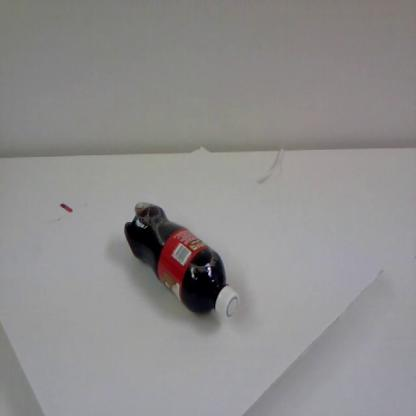bottle: (122, 198, 240, 325)
